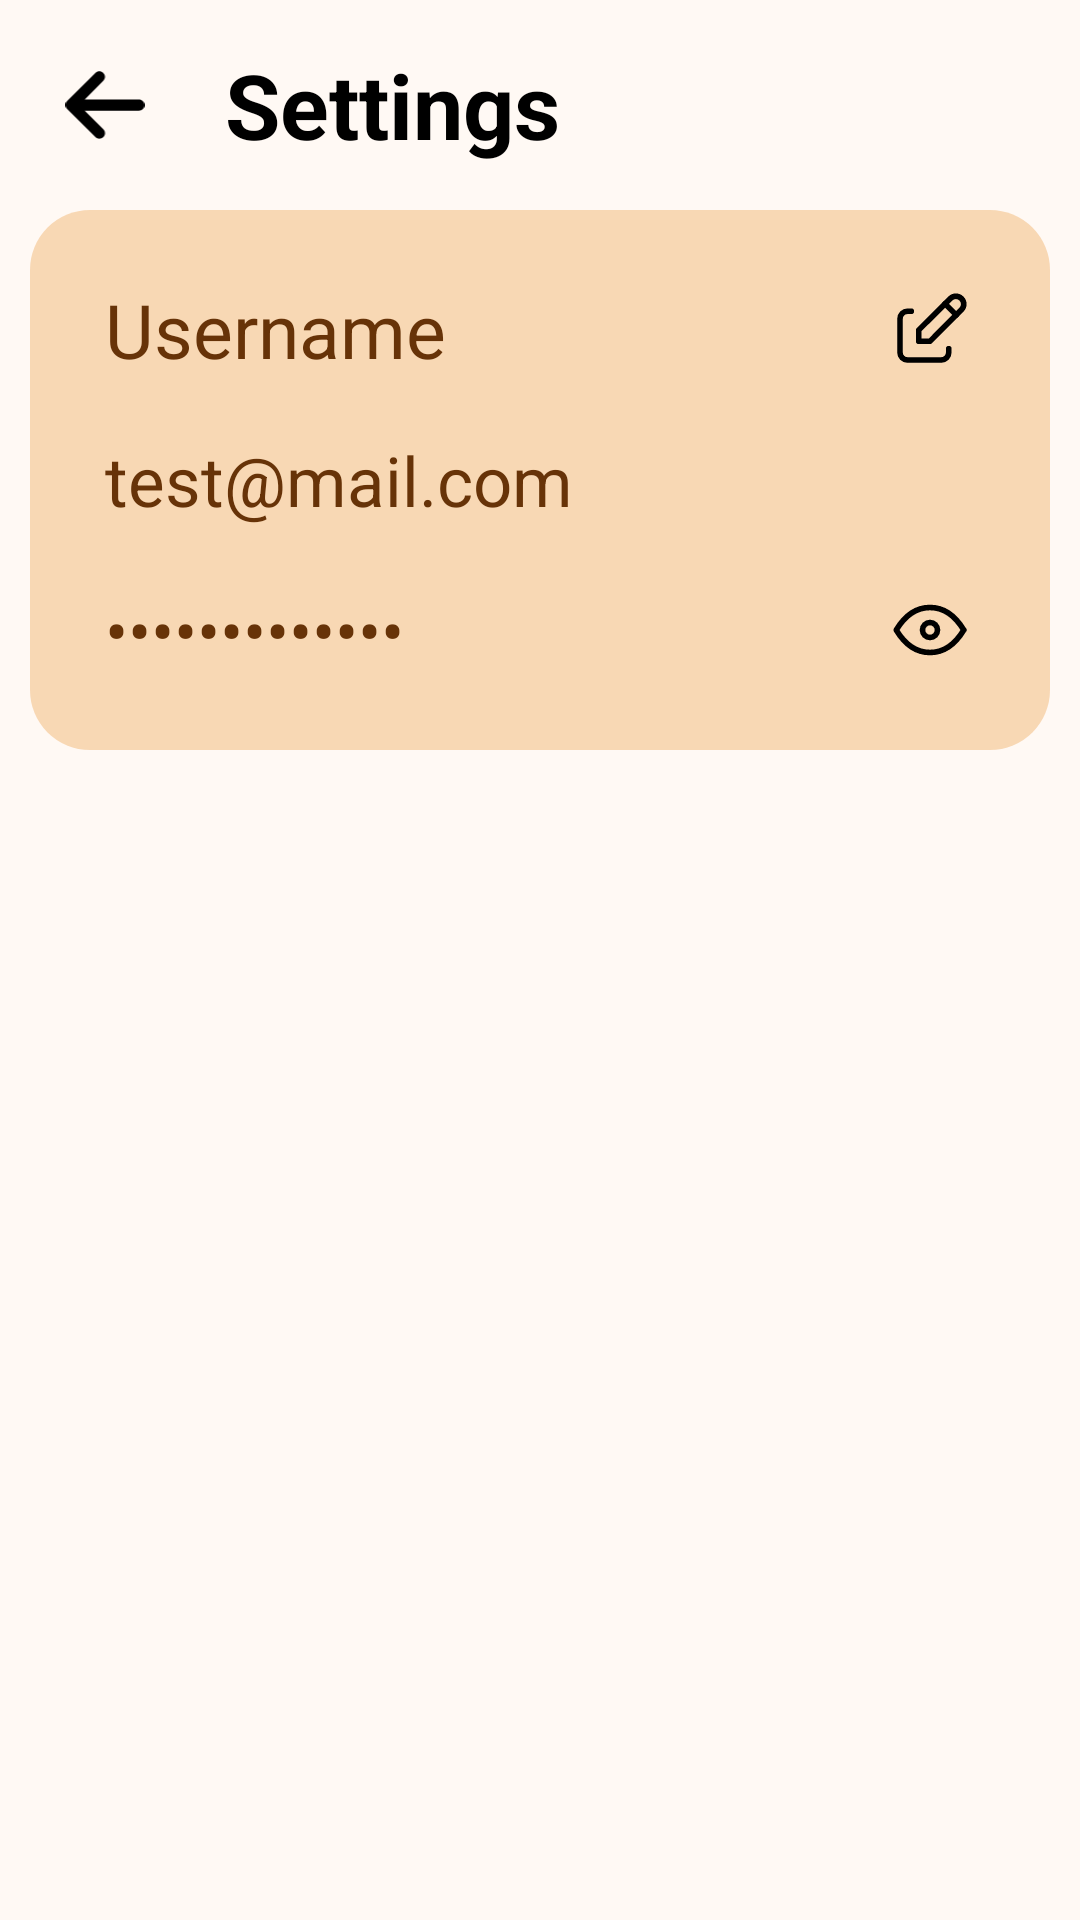

Screen size 1080w x 1920h. Icon name, then its box in pixels as (x1, y1, x2, y2):
arrow left: (65, 71, 145, 139)
edit: (897, 293, 967, 363)
eye: (893, 604, 967, 656)
